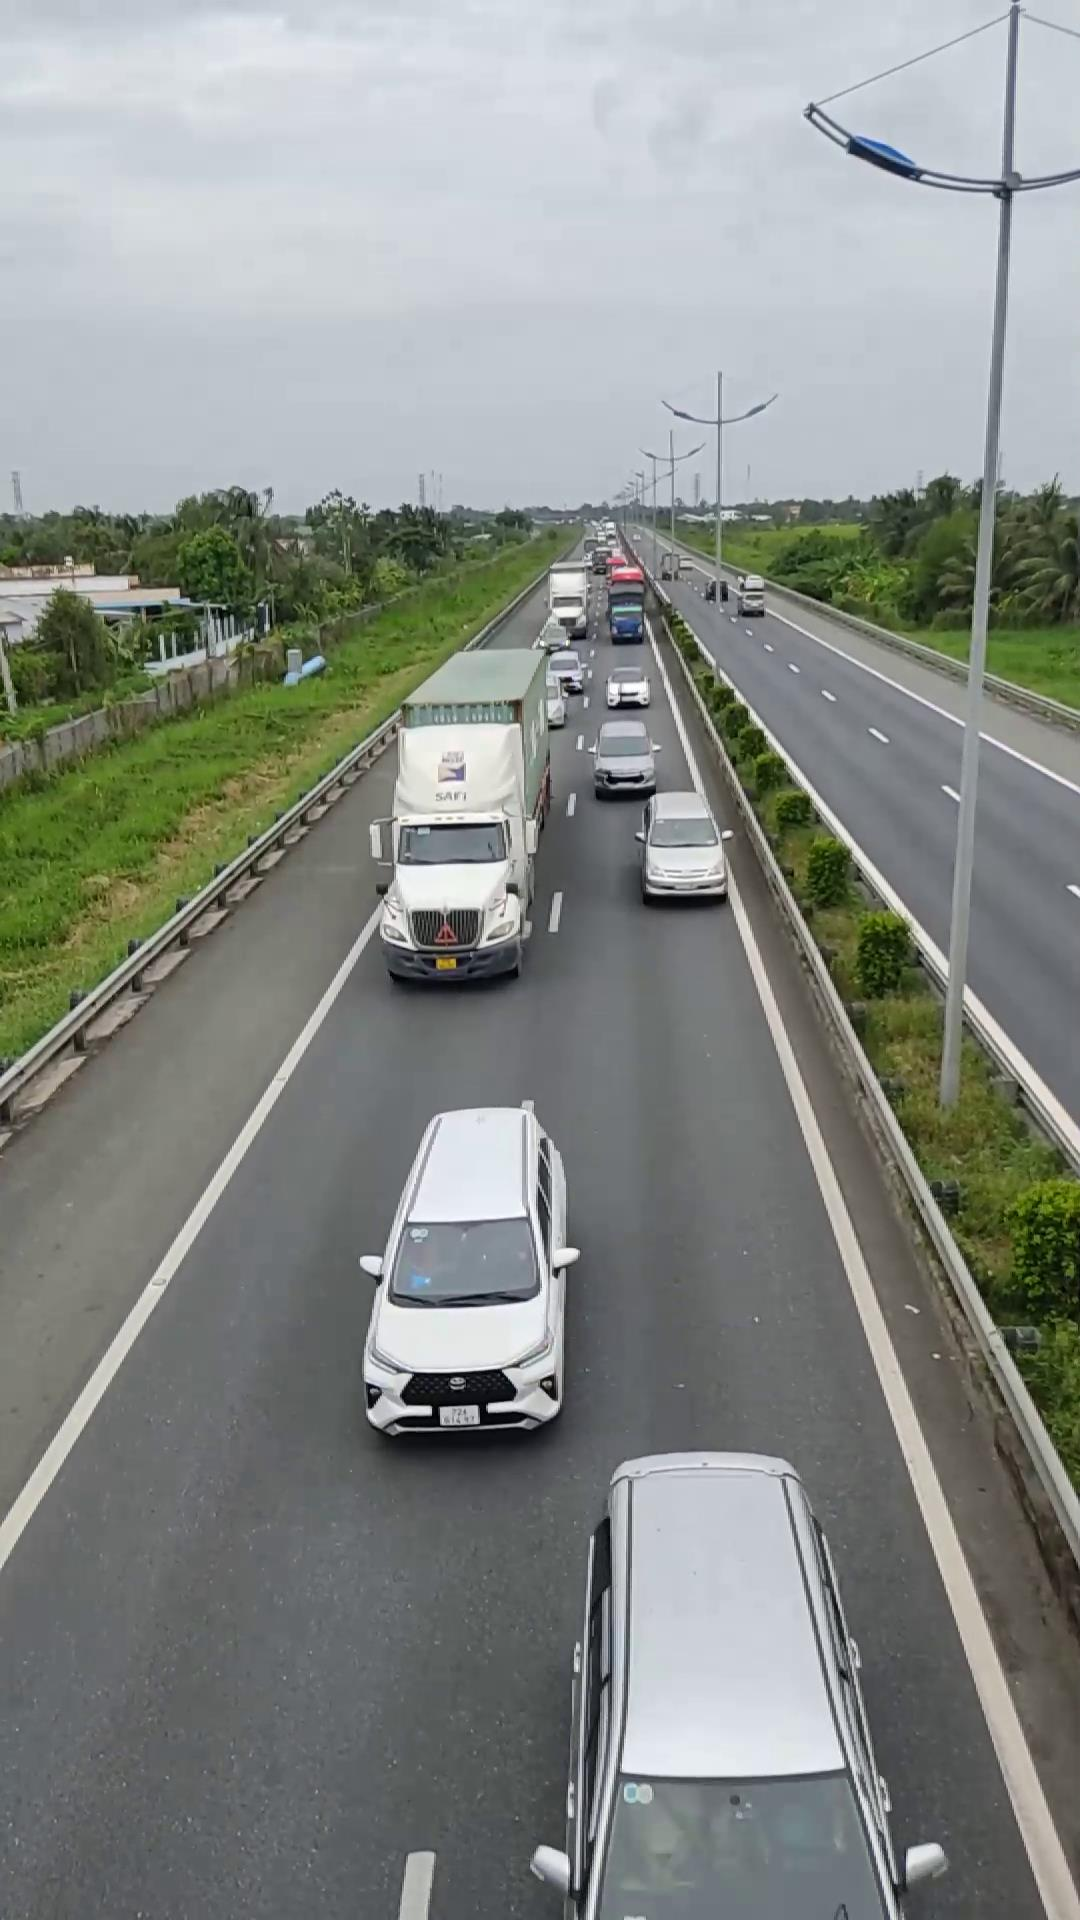car: (553, 1451, 913, 1919), (356, 1100, 578, 1443), (636, 790, 732, 903), (589, 735, 657, 796)
container: (376, 644, 555, 985)
